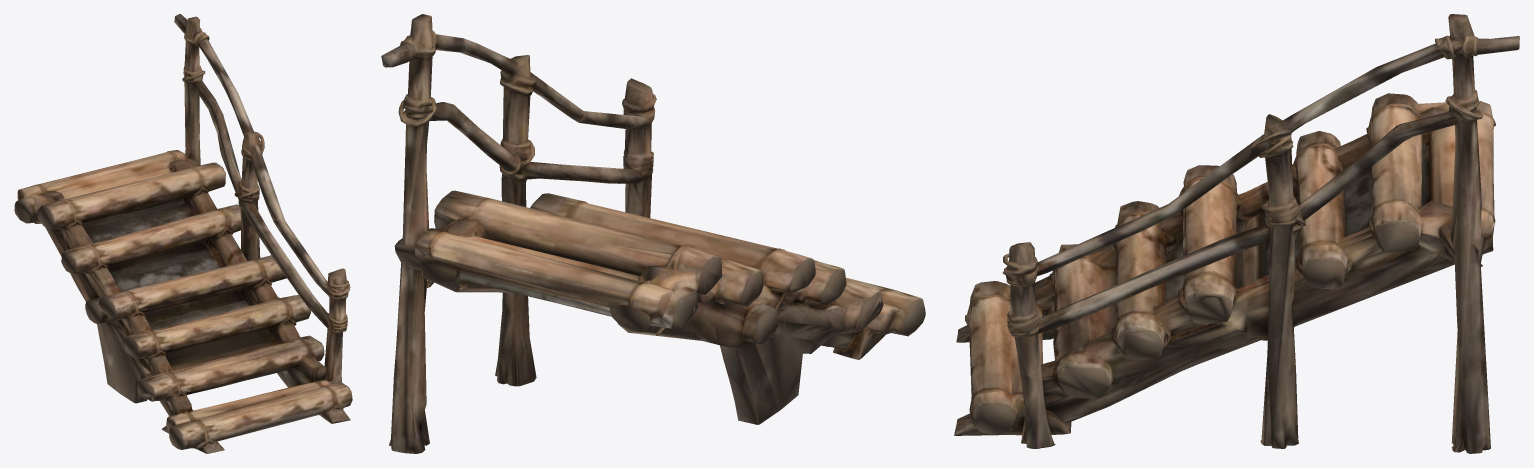
The model's file is wooden steps.glb.
3 views of the same model, side by side, from view 1: azimuth 30°, elevation 25°; view 2: azimuth 150°, elevation 25°; view 3: azimuth 270°, elevation 25° (orthographic). The views are drawn at different scales.
Bounding box in the file's own units: 1.17 × 1.66 × 2.
Materials: 1 (1 with a texture image).
